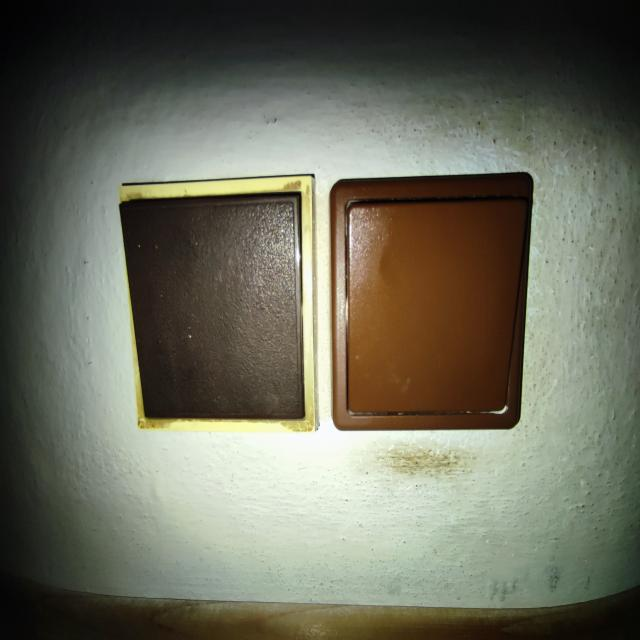house switch: (330, 171, 533, 430), (118, 175, 320, 434)
